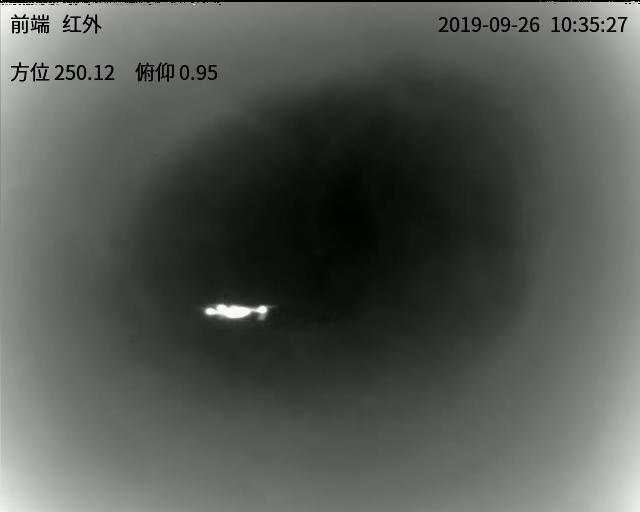uav: (202, 301, 272, 322)
